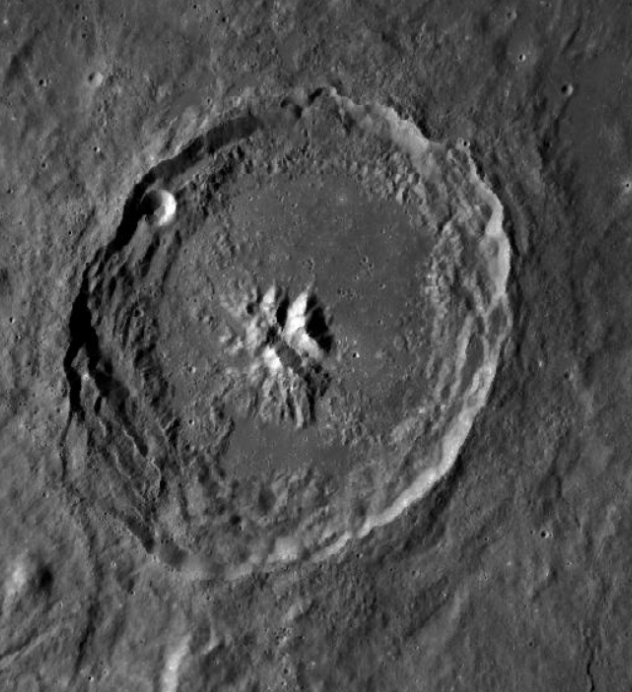crater: (18, 67, 561, 654)
